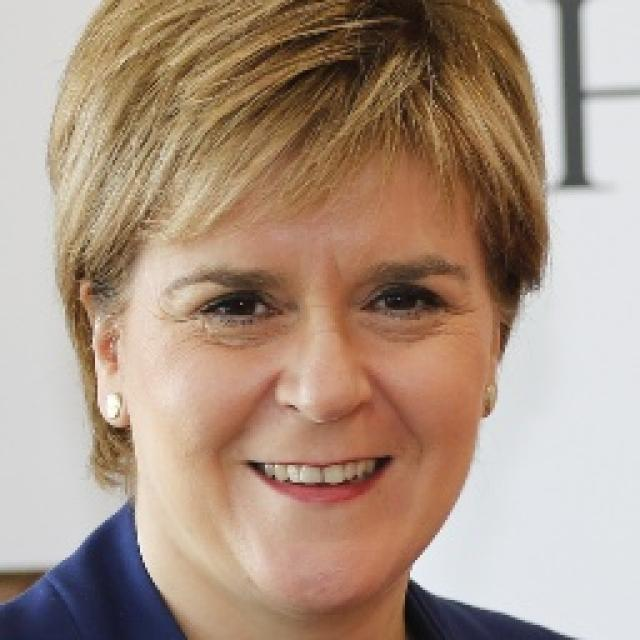earlobe: (80, 278, 130, 430)
